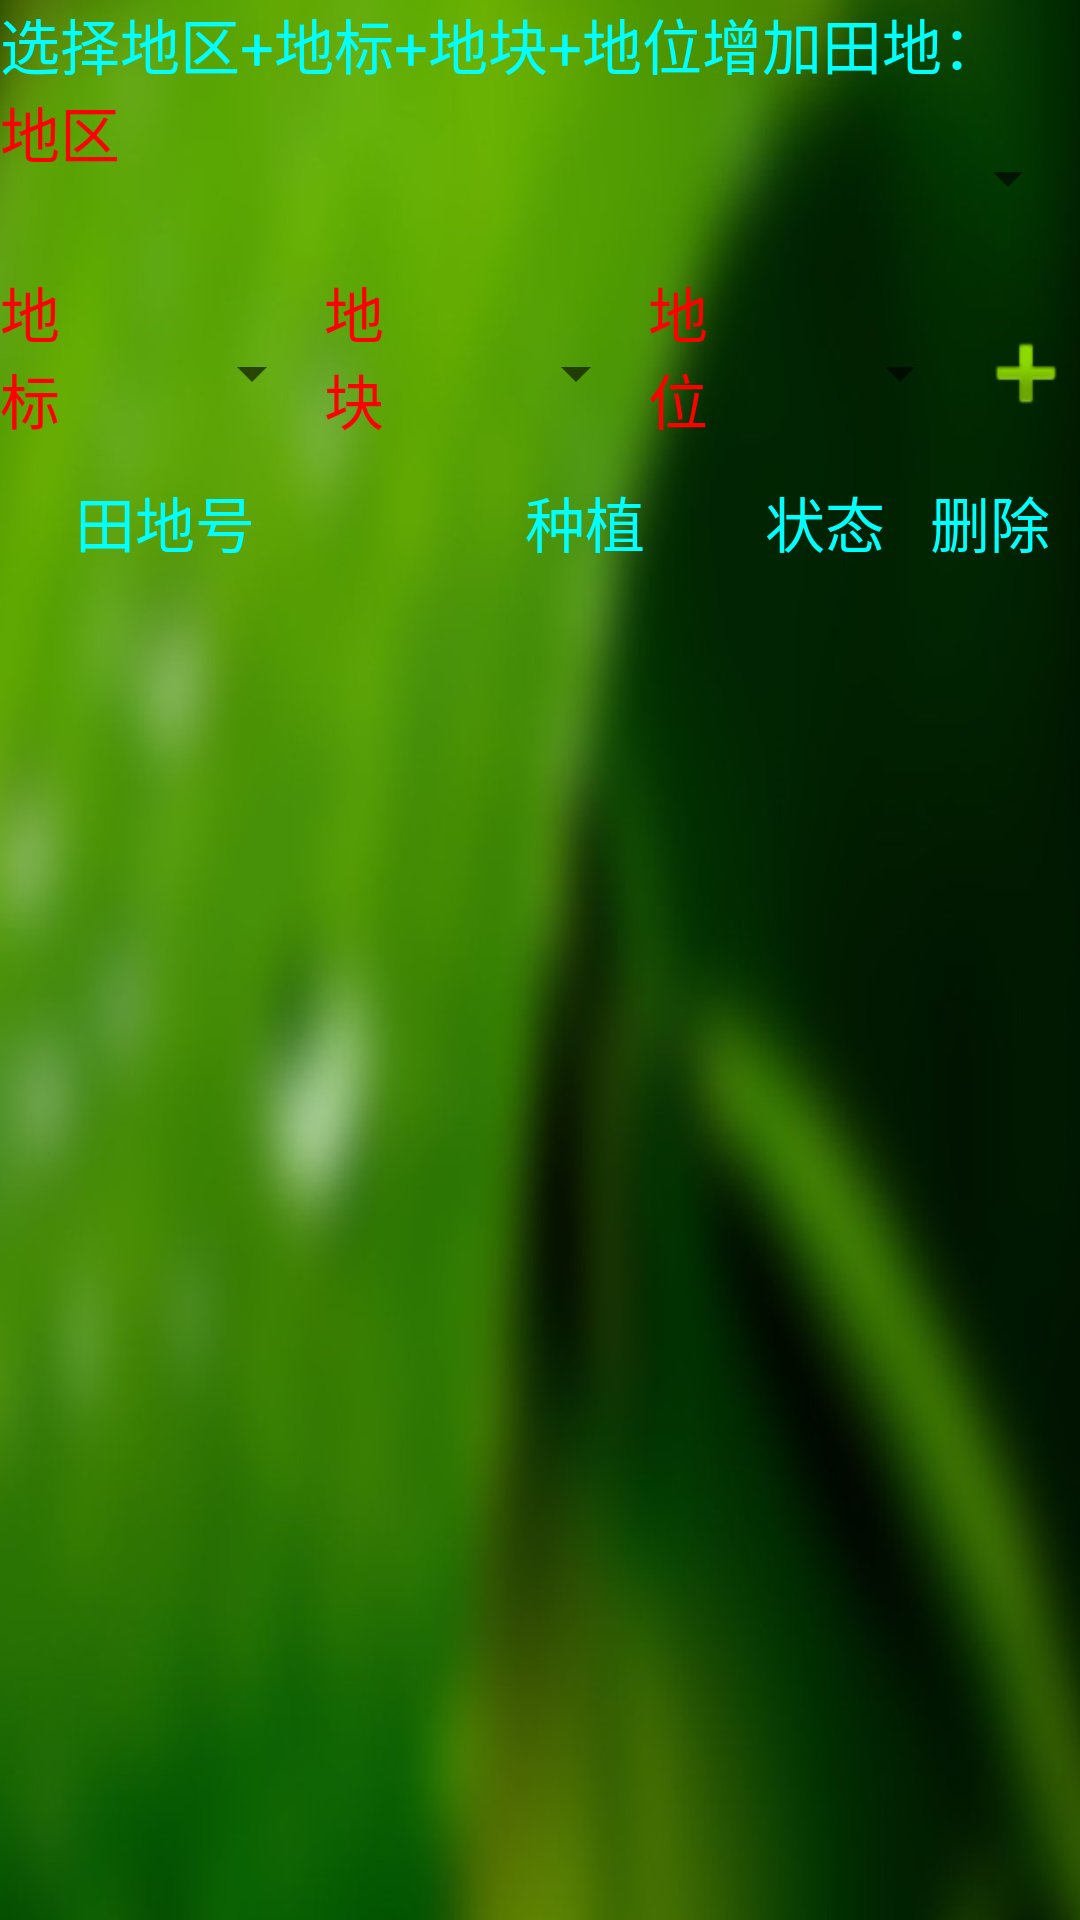

Named icons in this screenshot (1080*1920) and their bounding boxes, (x1,y1,x2,y2):
add: (995,343,1056,403)
